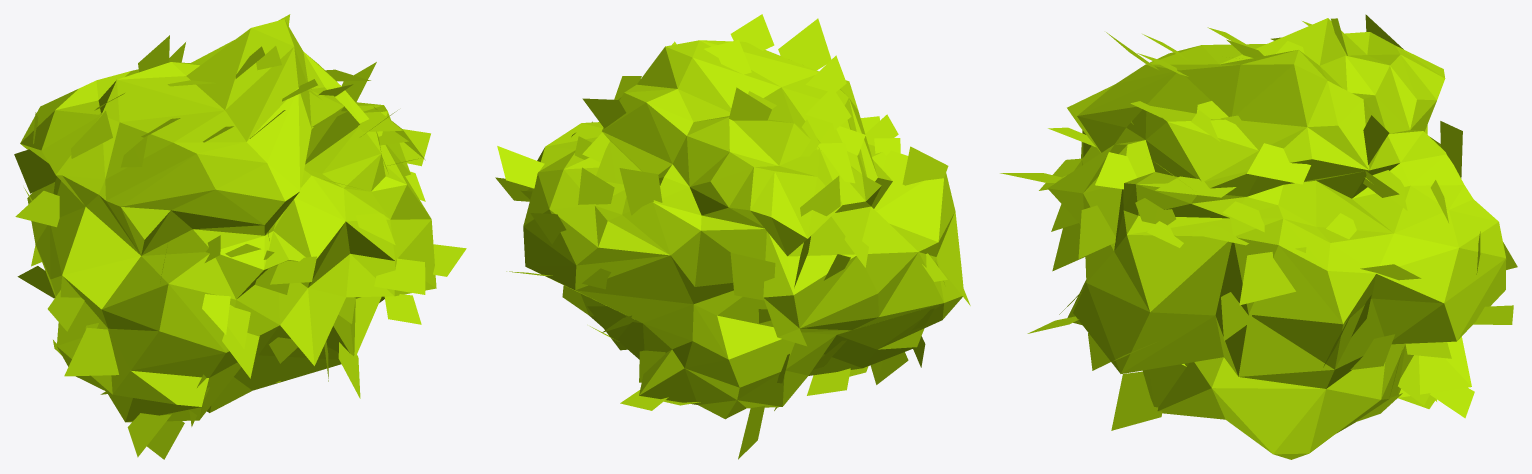
The model's file is SM_Bush_Round_Big.fbx.
3 renders of one model, left to right at view 1: azimuth 30°, elevation 25°; view 2: azimuth 150°, elevation 25°; view 3: azimuth 270°, elevation 25°, orthographic. The views are drawn at different scales.
Visible parts, largest first — view 1: SM_Bush_Round_Big; view 2: SM_Bush_Round_Big; view 3: SM_Bush_Round_Big.
Boxes of the visible parts, x1,y1,x2,y2 form: SM_Bush_Round_Big: [14, 14, 466, 459]; SM_Bush_Round_Big: [495, 14, 970, 459]; SM_Bush_Round_Big: [1000, 14, 1517, 459].
Bounding box in the file's own units: 3.44 × 2.72 × 3.07.
